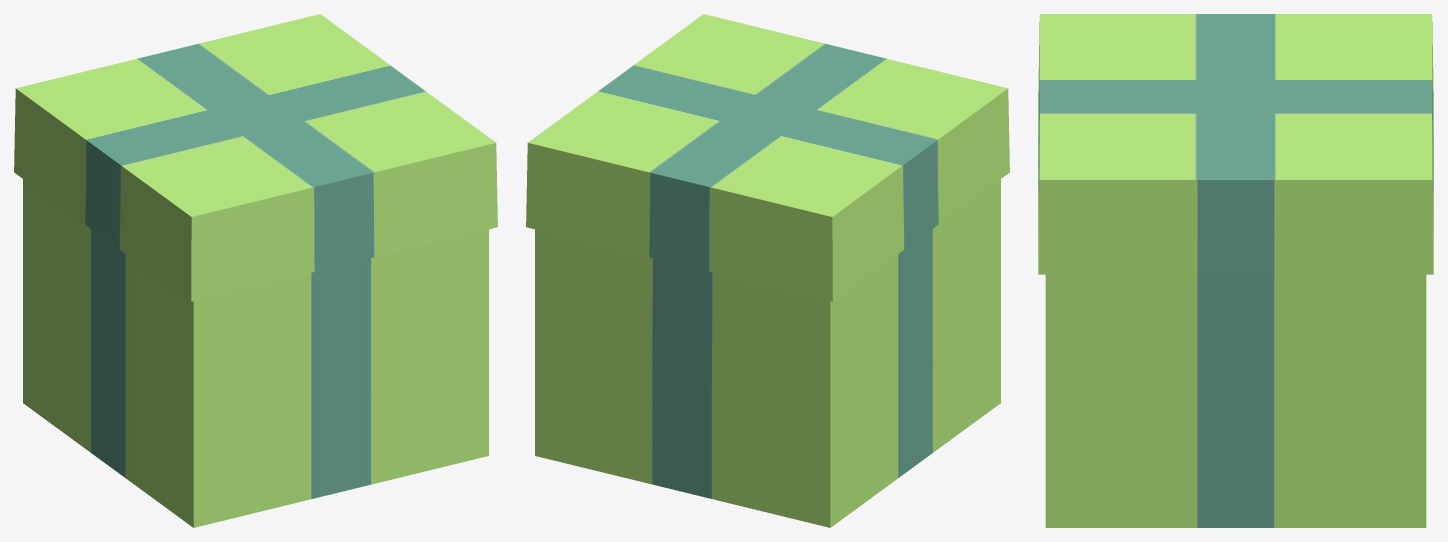
3 renders of one model, left to right at view 1: azimuth 30°, elevation 25°; view 2: azimuth 150°, elevation 25°; view 3: azimuth 270°, elevation 25°, orthographic. The views are drawn at different scales.
Parts seen in each view (by area): view 1: Cube.013; view 2: Cube.013; view 3: Cube.013.
Part boxes in pixels (x1=…): Cube.013: x1=14, y1=14, x2=497, y2=527; Cube.013: x1=526, y1=14, x2=1009, y2=527; Cube.013: x1=1038, y1=14, x2=1433, y2=527.
Bounding box in the file's own units: 9621 × 9409 × 9621.
5 materials, 3 textured.
